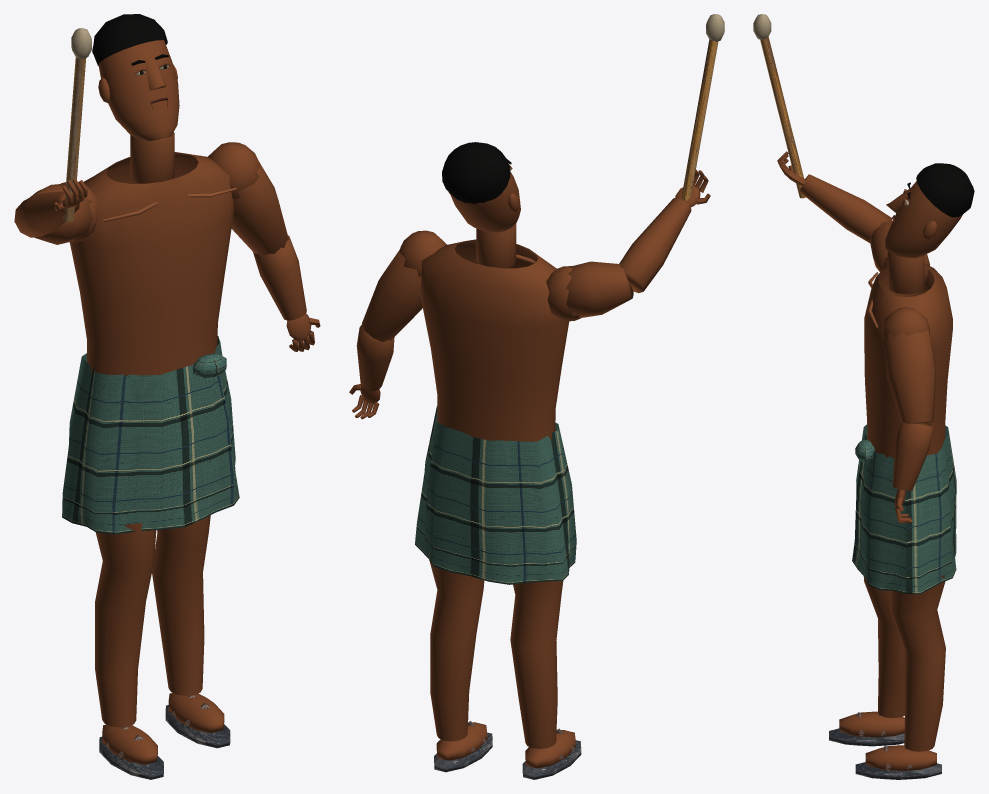
Rendered from char_fire_breather.glb.
3 views of the same model, side by side, from view 1: azimuth 30°, elevation 25°; view 2: azimuth 150°, elevation 25°; view 3: azimuth 270°, elevation 25° (orthographic). The views are drawn at different scales.
Visible parts, largest first — view 1: char_fire_breather; view 2: char_fire_breather; view 3: char_fire_breather.
Boxes of the visible parts, x1=… form: char_fire_breather: x1=14, y1=14, x2=320, y2=779; char_fire_breather: x1=349, y1=14, x2=724, y2=779; char_fire_breather: x1=753, y1=14, x2=974, y2=779.
Size of the model in its own units: 0.8501 by 1.99 by 0.5842.
12 materials, 5 textured.
